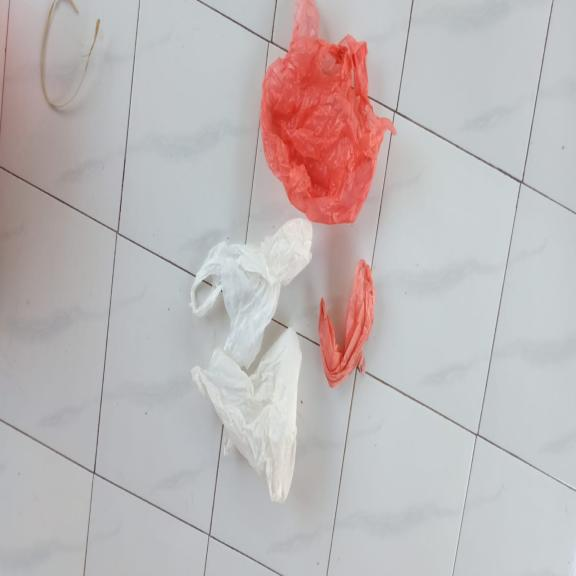Plastik: (261, 0, 397, 224), (191, 324, 301, 506), (189, 220, 313, 369), (319, 260, 376, 392)
